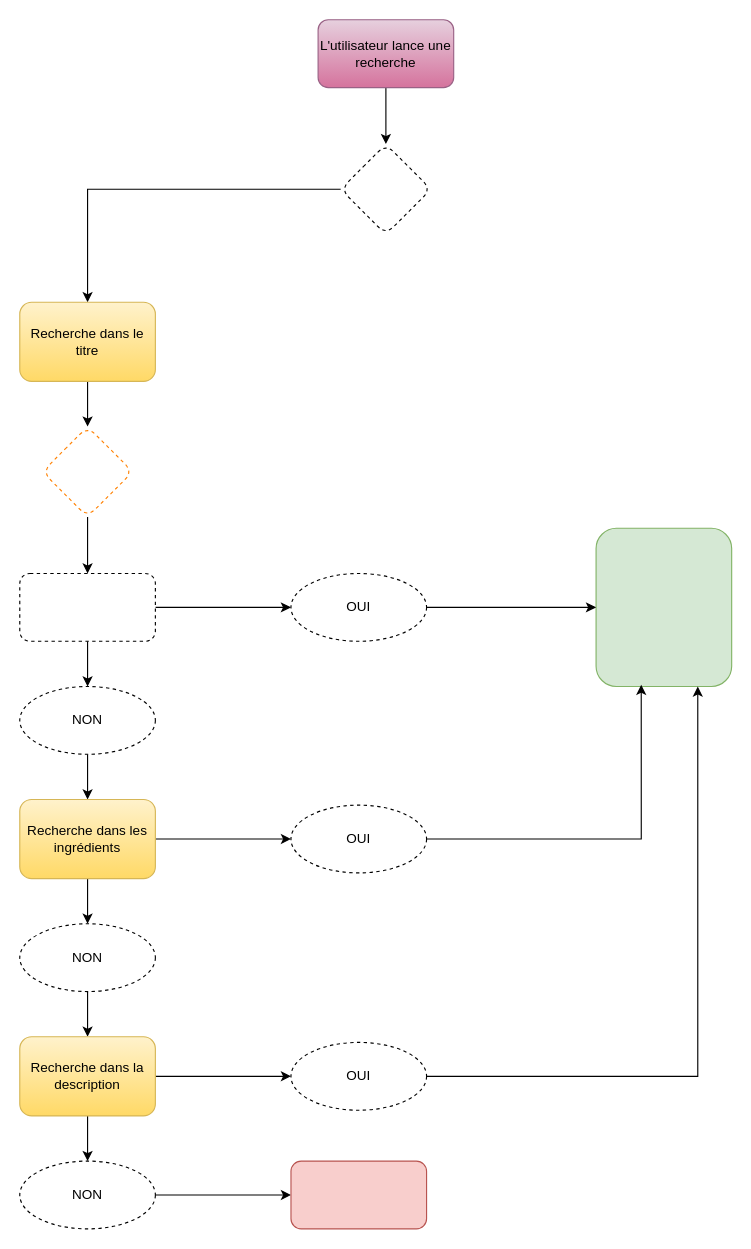
Image size: 751x1249. Some labels were removed from this diagram. Here are the shapes that lost their labels. From the top down, the box of each, then its label:
(340, 143, 431, 234): Caractère > 3
(41, 425, 133, 517): Utiliser include
(19, 572, 155, 641): Si les élément du tableau inclus les caractère de recherche
(595, 527, 732, 686): Afficher la recette
(290, 1160, 427, 1229): N'affiche pas la recette
